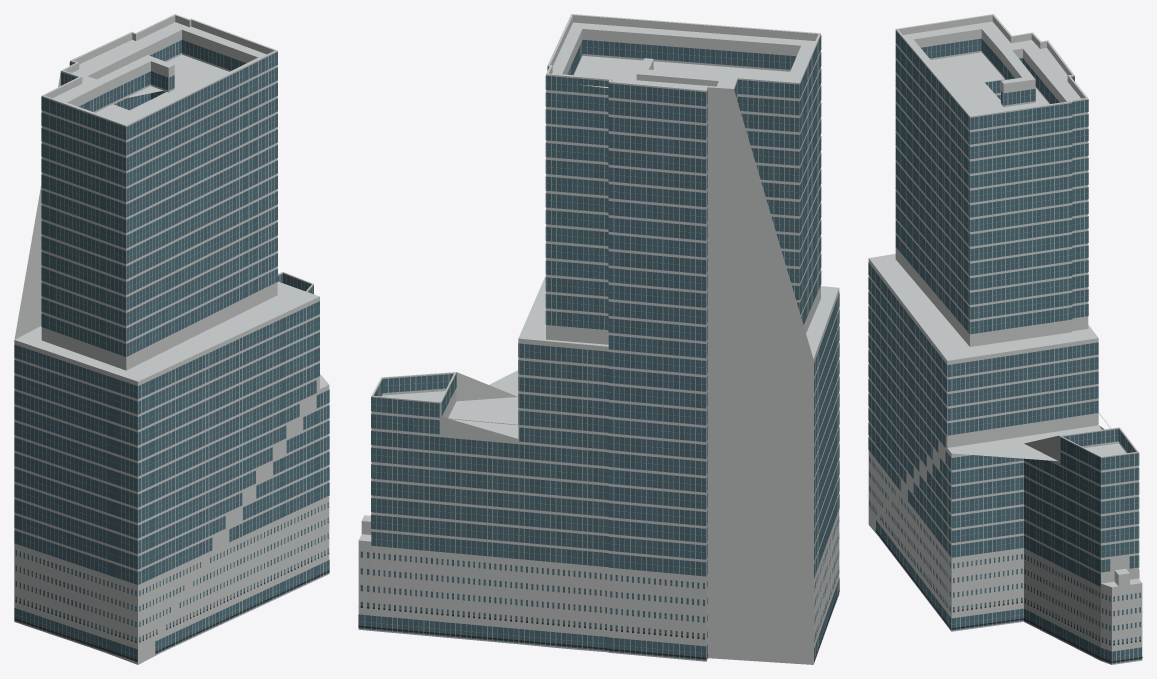
Rendered from hikarie.glb.
3 views of the same model, side by side, from view 1: azimuth 30°, elevation 25°; view 2: azimuth 150°, elevation 25°; view 3: azimuth 270°, elevation 25° (orthographic). The views are drawn at different scales.
Parts seen in each view (by area): view 1: hikarie_wall, hikarie_glass2, hikarie_glass0, hikarie_glass1, hikarie_frame, hikarie_roof, hikarie_spandrel, hikarie_sign_housing; view 2: hikarie_wall, hikarie_glass2, hikarie_glass0, hikarie_glass1, hikarie_frame, hikarie_roof, hikarie_spandrel, hikarie_sign_housing; view 3: hikarie_wall, hikarie_glass2, hikarie_glass0, hikarie_glass1, hikarie_roof, hikarie_frame, hikarie_spandrel, hikarie_sign_housing.
Part boxes in pixels (x1,y1,x2,y2): hikarie_wall: (14,15,329,664); hikarie_glass2: (14,40,329,659); hikarie_glass0: (14,41,329,662); hikarie_glass1: (14,40,329,658); hikarie_frame: (14,43,327,653); hikarie_roof: (15,14,328,388); hikarie_spandrel: (14,37,329,662); hikarie_sign_housing: (14,553,329,660); hikarie_wall: (358,15,839,664); hikarie_glass2: (359,37,839,657); hikarie_glass0: (360,35,839,662); hikarie_glass1: (358,40,839,660); hikarie_frame: (358,42,838,659); hikarie_roof: (359,14,838,541); hikarie_spandrel: (358,37,839,660); hikarie_sign_housing: (358,571,839,661); hikarie_wall: (868,15,1142,664); hikarie_glass2: (868,31,1140,661); hikarie_glass0: (868,36,1140,663); hikarie_glass1: (868,32,1141,662); hikarie_roof: (869,14,1141,587); hikarie_frame: (868,36,1140,663); hikarie_spandrel: (868,36,1142,664); hikarie_sign_housing: (869,504,1142,662).
Bounding box in the file's own units: 132 × 185 × 92.61.
